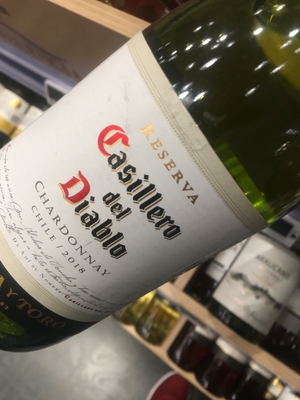casillero del diablo chardonnay: (2, 32, 300, 335)
